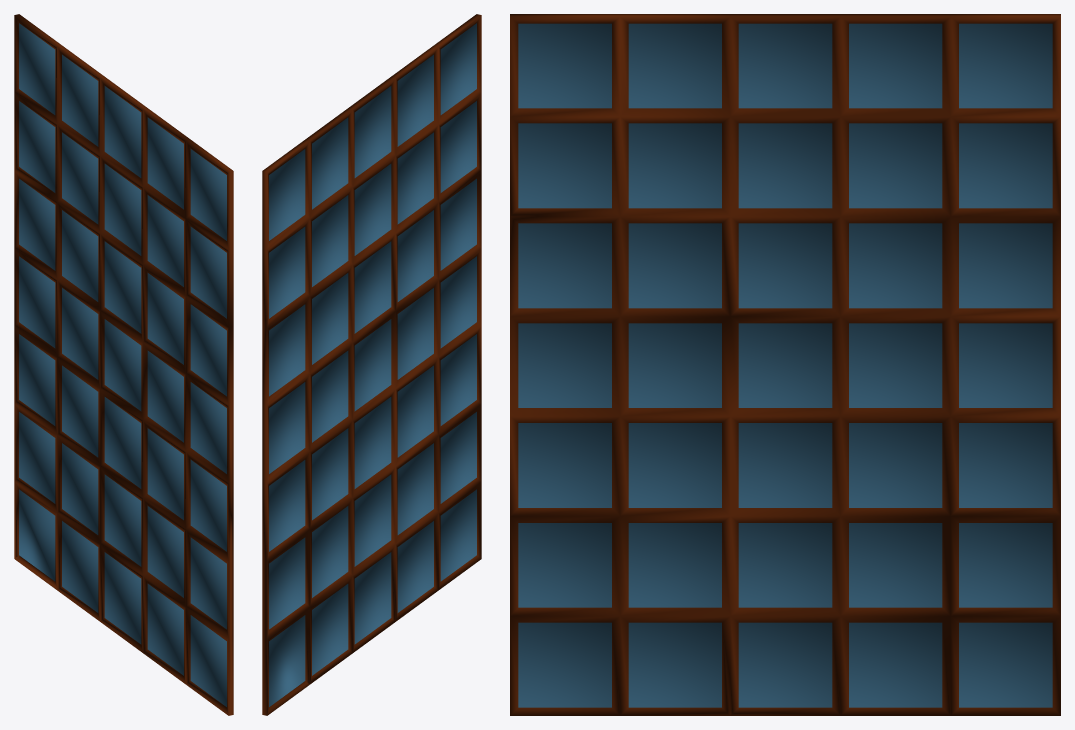
Rendered from GlassDoor.fbx.
3 views of the same model, side by side, from view 1: azimuth 30°, elevation 25°; view 2: azimuth 150°, elevation 25°; view 3: azimuth 270°, elevation 25° (orthographic). The views are drawn at different scales.
Parts seen in each view (by area): view 1: Mesh_002; view 2: Mesh_002; view 3: Mesh_002.
Part boxes in pixels (bbox=[...]): Mesh_002: bbox=[14, 14, 233, 715]; Mesh_002: bbox=[262, 14, 481, 715]; Mesh_002: bbox=[510, 14, 1060, 715].
Bounding box in the file's own units: 0.0405 × 4.36 × 3.11.
